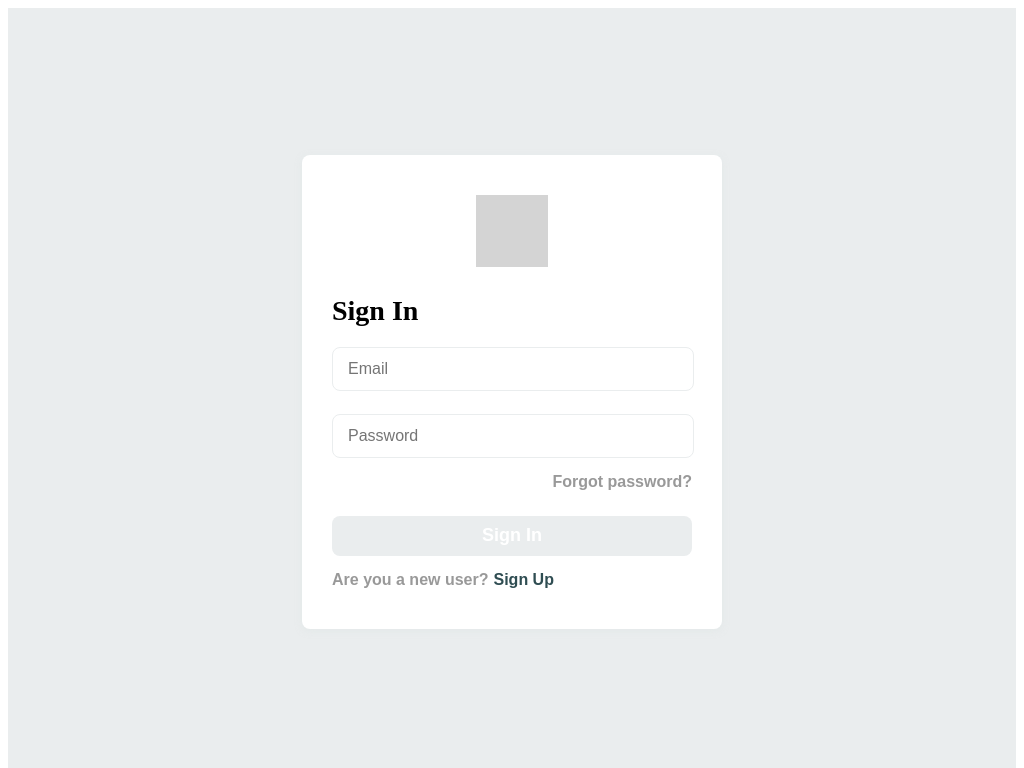
Login.cy.tsx › Submit button should be enabled when valid email and password is entered
This screenshot has width=1024, height=768.
Type "antti.isosaari@mail.fi" into the field with id "email". click: (513, 369)
box: 332,347 -> 694,391
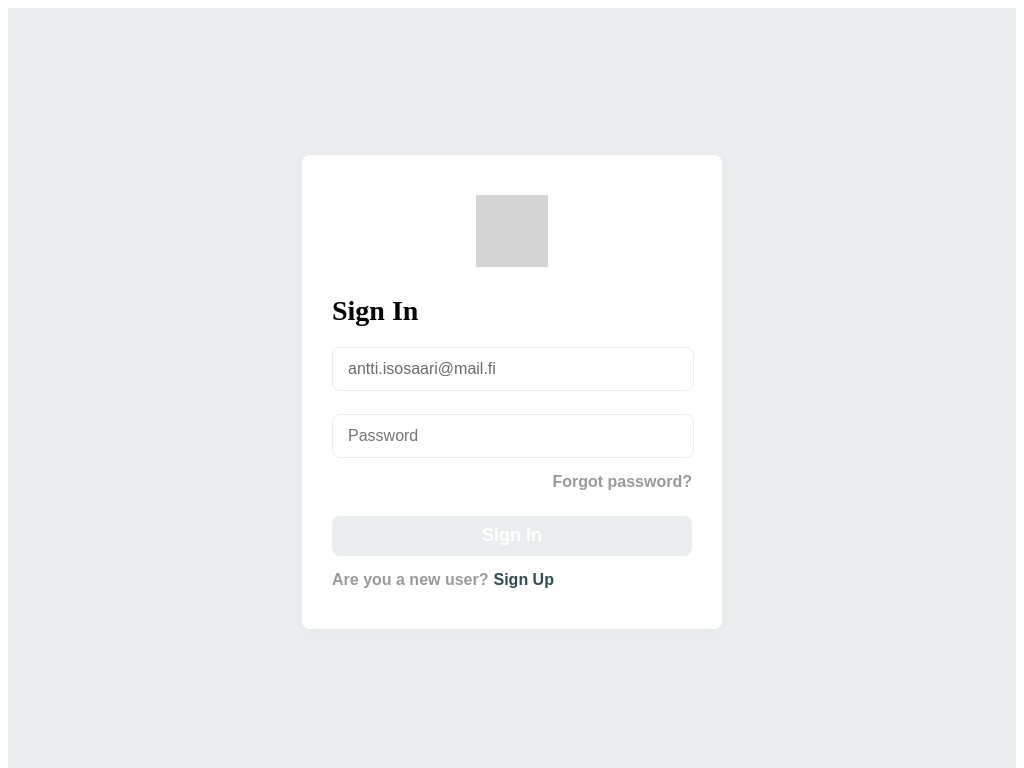
Type "Abc12345" into the password field with placeholder "Password". click: (513, 436)
box: 332,414 -> 694,458
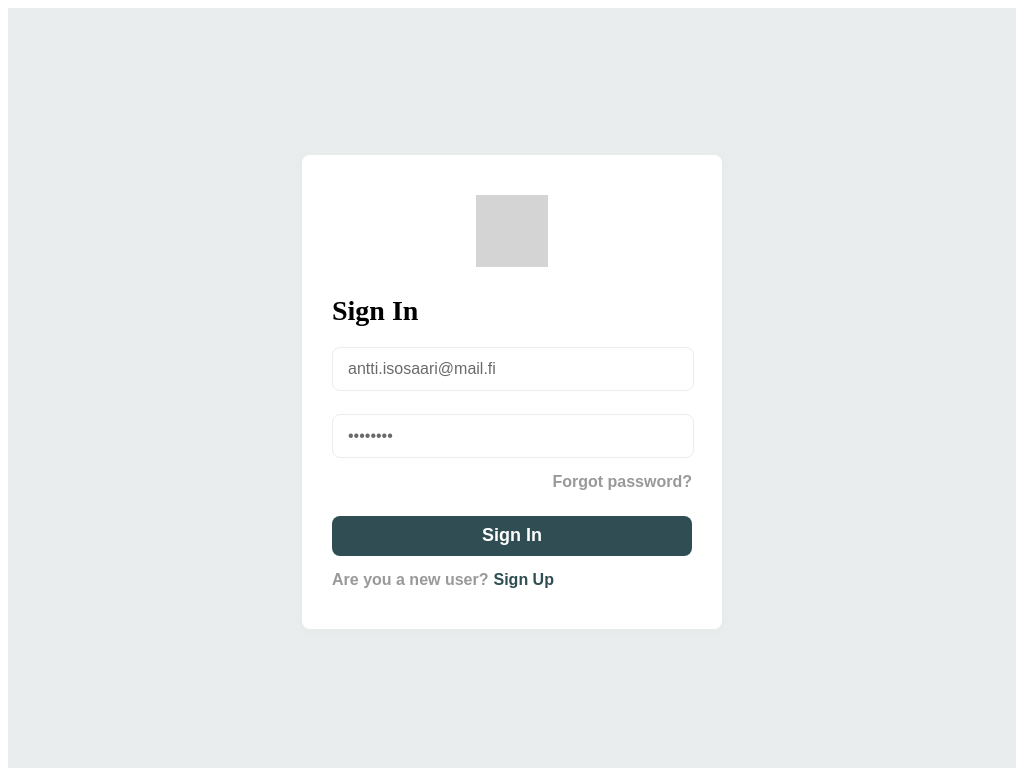
Result: the button with id "submit" is enabled at 332,516 -> 692,556
